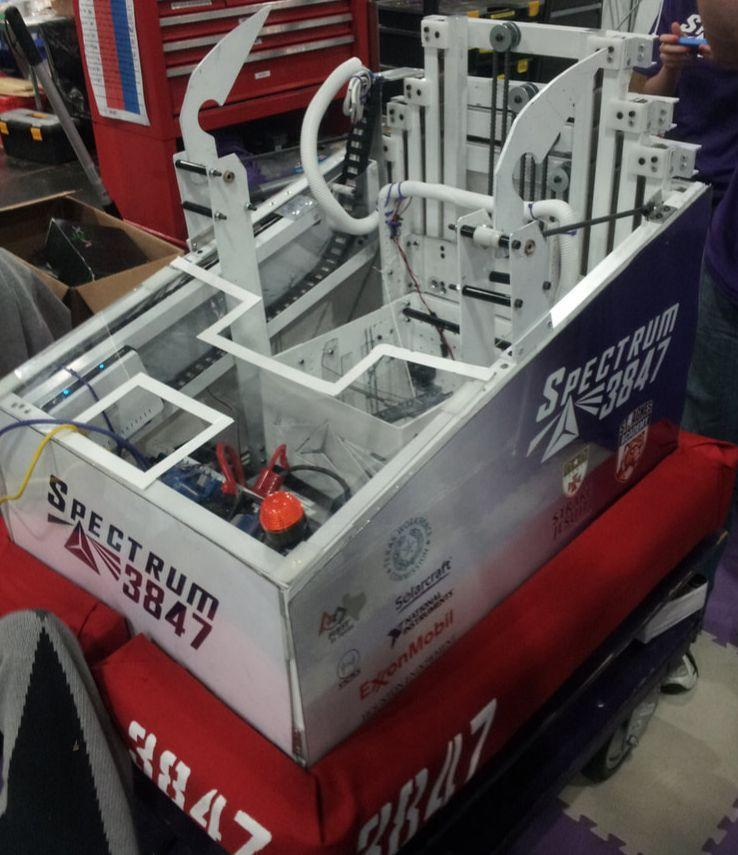robot: (0, 4, 738, 855)
